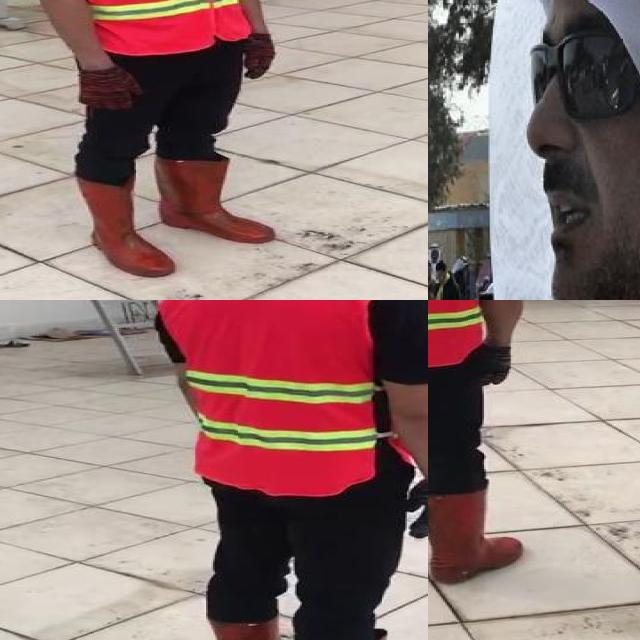boots: (158, 156, 276, 243), (77, 176, 177, 278), (428, 488, 521, 584), (204, 615, 293, 640)
face_nomask: (510, 38, 640, 272)
glasses: (532, 3, 640, 138)
hand_glove: (76, 65, 138, 110), (475, 345, 514, 387), (401, 483, 428, 540), (254, 30, 276, 82)
person: (154, 300, 428, 640), (2, 0, 296, 283), (428, 300, 564, 589)
vest: (158, 300, 405, 496), (86, 0, 249, 56)
